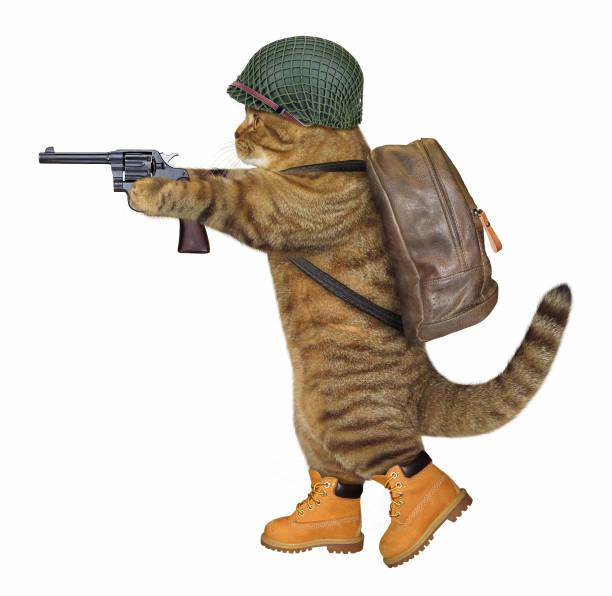weapon: (34, 142, 220, 255)
